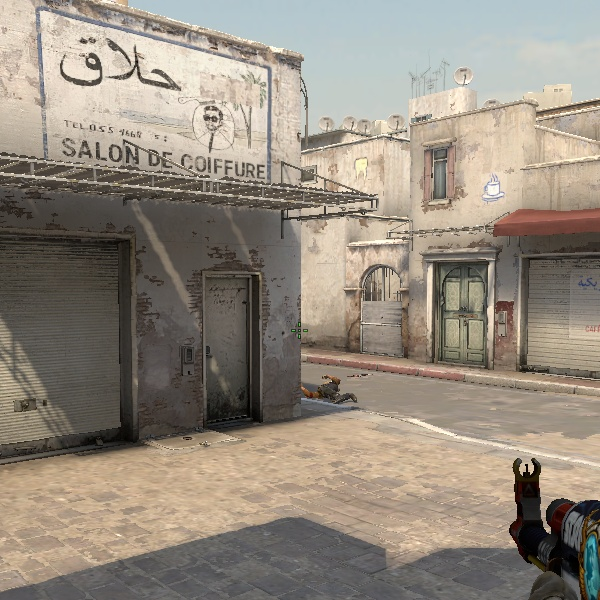t_body: (312, 372, 349, 403)
